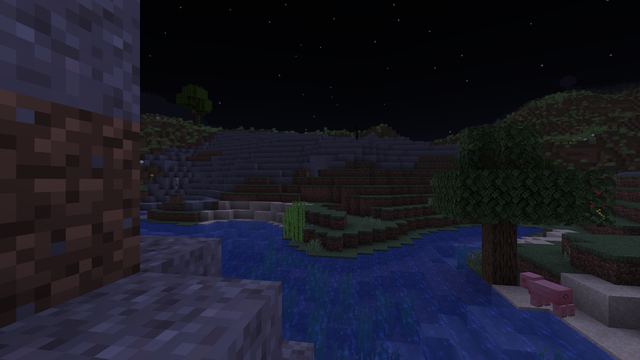cochons: (527, 278, 573, 316)
creepers: (323, 126, 326, 135)
endermens: (355, 123, 358, 139)
squelettes: (172, 177, 177, 188)
